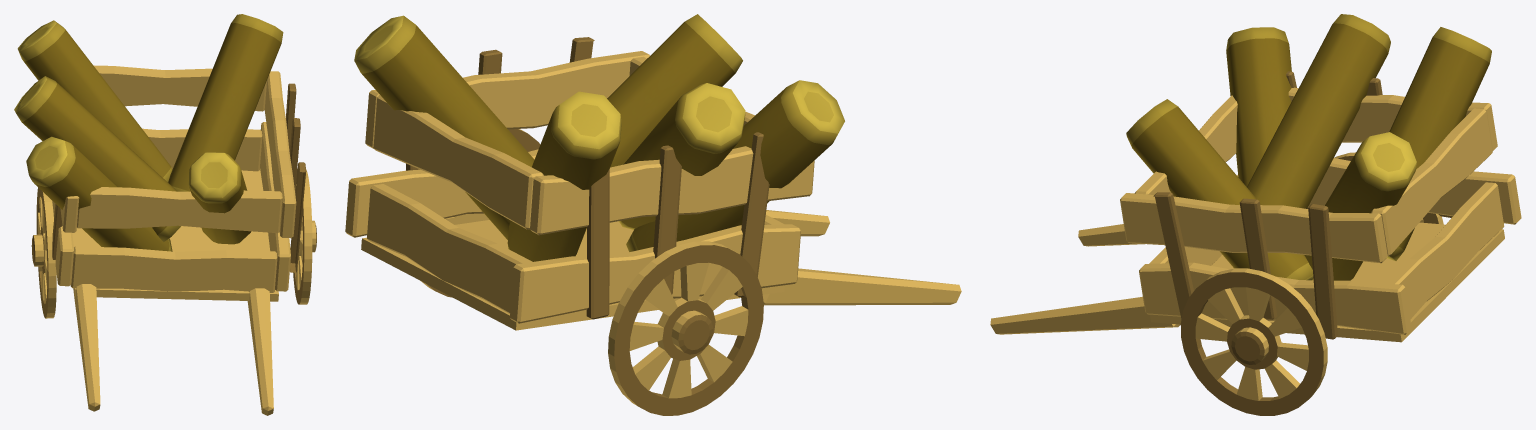
File: coleso.fbx
3 renders of one model, left to right at view 1: azimuth 30°, elevation 25°; view 2: azimuth 150°, elevation 25°; view 3: azimuth 270°, elevation 25°, orthographic. The views are drawn at different scales.
Visible parts, largest first — view 1: Plane; view 2: Plane; view 3: Plane.
Part boxes in pixels (<box>): Plane: <box>14,14,316,415</box>; Plane: <box>345,14,961,415</box>; Plane: <box>990,14,1521,415</box>.
Bounding box in the file's own units: 314 × 238 × 388.
